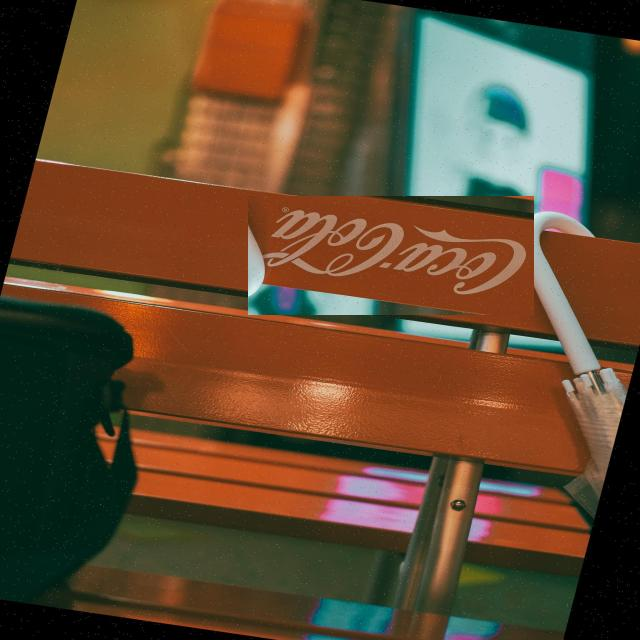coca-cola: (248, 196, 534, 315)
